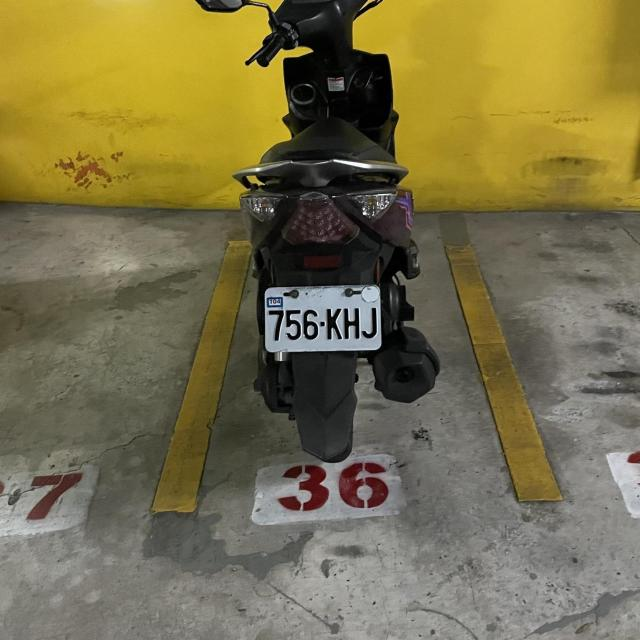W: (260, 282, 383, 356)
